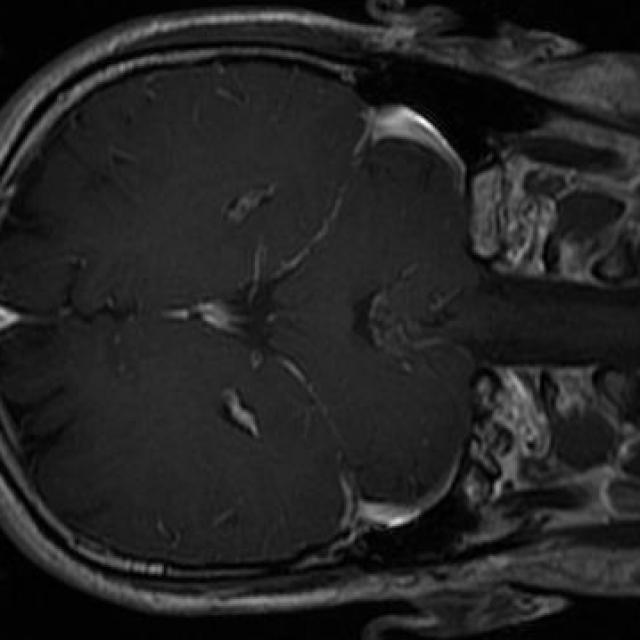glioma: (353, 280, 431, 351)
